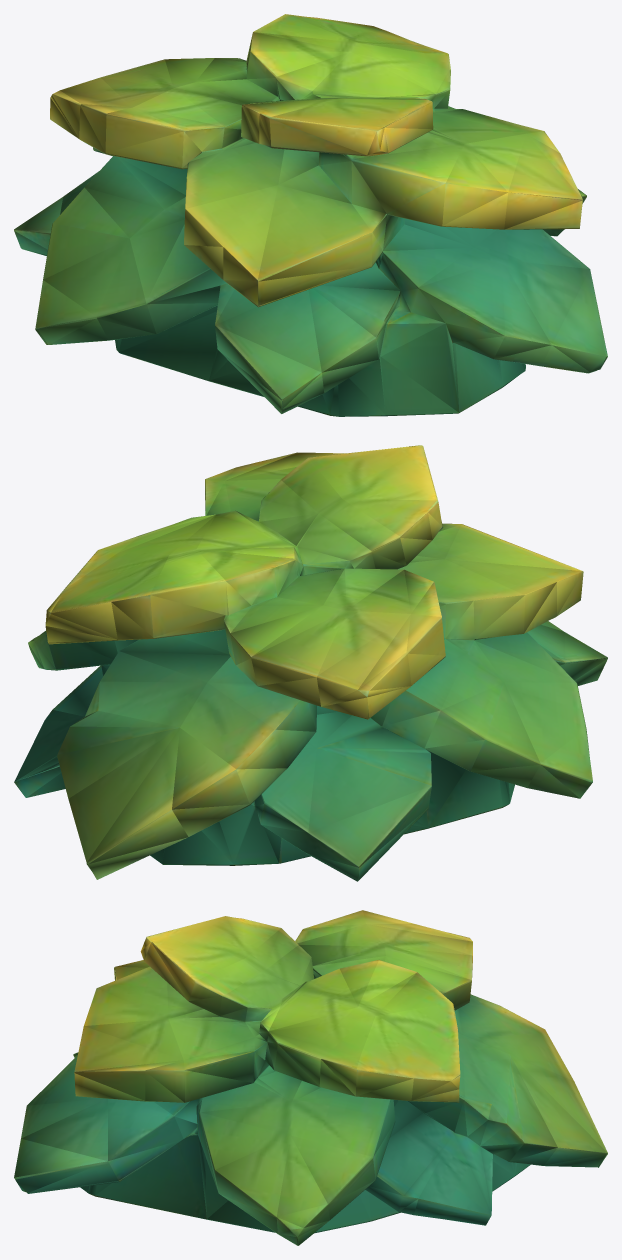
The model's file is bush.glb.
The picture shows the model from 3 angles, top to bottom: view 1: azimuth 30°, elevation 25°; view 2: azimuth 150°, elevation 25°; view 3: azimuth 270°, elevation 25°; orthographic projection. The views are drawn at different scales.
Parts seen in each view (by area): view 1: tripo_node_03e0e088-7af5-436f-bee1-309398529a72; view 2: tripo_node_03e0e088-7af5-436f-bee1-309398529a72; view 3: tripo_node_03e0e088-7af5-436f-bee1-309398529a72.
Boxes of the visible parts, x1=… form: tripo_node_03e0e088-7af5-436f-bee1-309398529a72: x1=14, y1=14, x2=607, y2=416; tripo_node_03e0e088-7af5-436f-bee1-309398529a72: x1=14, y1=445, x2=607, y2=881; tripo_node_03e0e088-7af5-436f-bee1-309398529a72: x1=14, y1=910, x2=607, y2=1245.
Bounding box in the file's own units: 13.61 × 5.8 × 14.89.
Materials: 1 (1 with a texture image).
